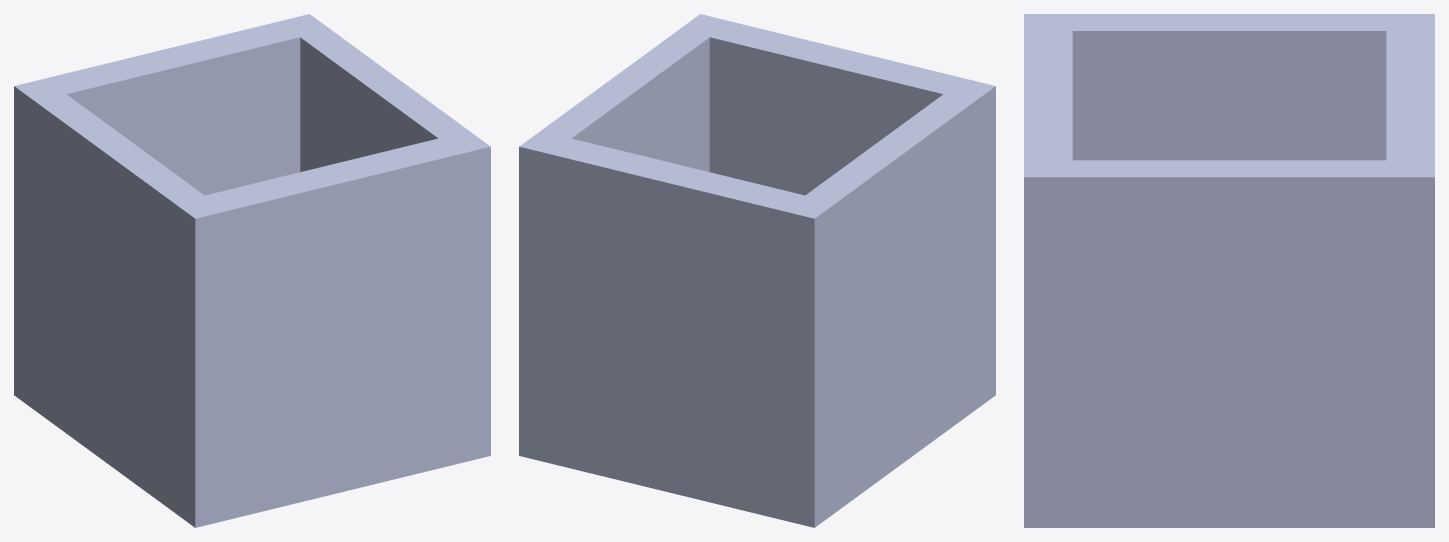
The model's file is change_box.fbx.
The picture shows the model from 3 angles, left to right: view 1: azimuth 30°, elevation 25°; view 2: azimuth 150°, elevation 25°; view 3: azimuth 270°, elevation 25°; orthographic projection. The views are drawn at different scales.
Parts seen in each view (by area): view 1: color; view 2: color; view 3: color.
Part boxes in pixels (x1=…): color: x1=14, y1=14, x2=490, y2=527; color: x1=519, y1=14, x2=995, y2=527; color: x1=1024, y1=14, x2=1434, y2=527.
Bounding box in the file's own units: 8 × 8 × 8.5.
